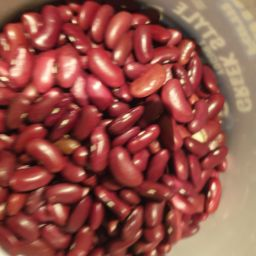Pinto Beans (kidney beans): (6, 16, 221, 256)
